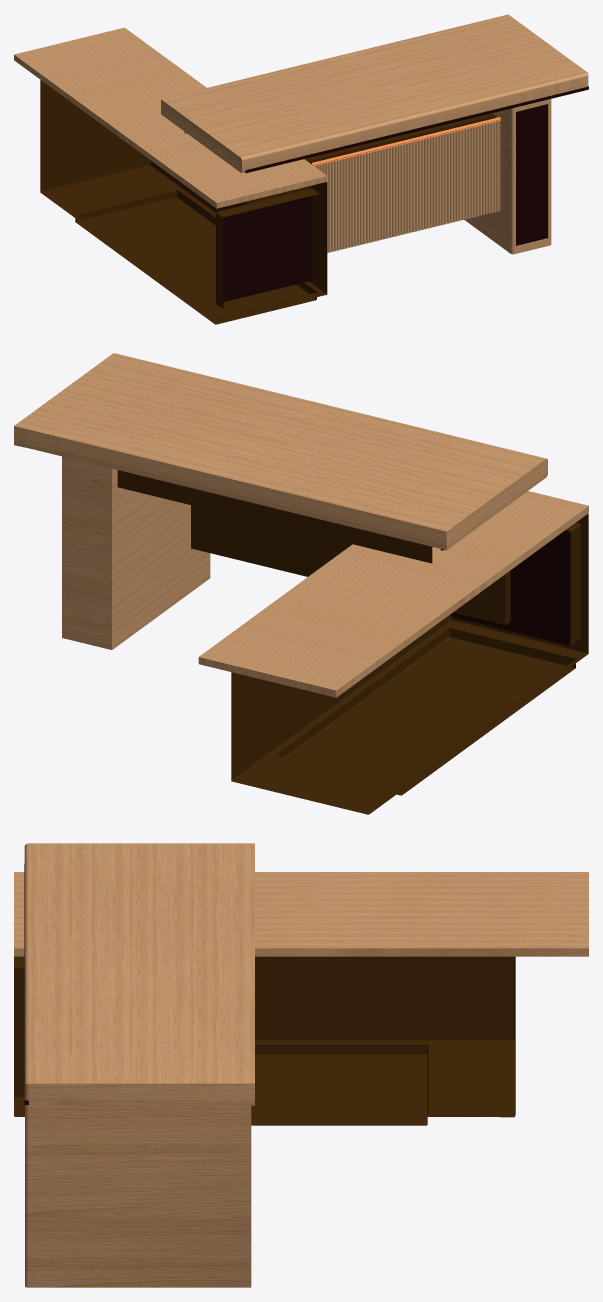
Rendered from Office Table.glb.
3 renders of one model, top to bottom at view 1: azimuth 30°, elevation 25°; view 2: azimuth 150°, elevation 25°; view 3: azimuth 270°, elevation 25°, orthographic. The views are drawn at different scales.
Parts seen in each view (by area): view 1: Cube.005, Cube.003, Cube.004, Plane.003, Cube.002, Cube.006, Cube.007; view 2: Cube.005, Cube.003, Cube.002, Cube.004; view 3: Cube.005, Cube.003, Cube.002, Cube.004.
Boxes of the visible parts, x1,y1,x2,y2 form: Cube.005: (161, 14, 588, 172); Cube.003: (40, 80, 327, 324); Cube.004: (14, 27, 327, 208); Plane.003: (314, 121, 500, 253); Cube.002: (184, 99, 551, 254); Cube.006: (244, 86, 588, 173); Cube.007: (312, 117, 500, 165); Cube.005: (14, 353, 547, 550); Cube.003: (231, 514, 588, 814); Cube.002: (62, 456, 510, 649); Cube.004: (198, 491, 588, 697); Cube.005: (24, 843, 254, 1105); Cube.003: (14, 956, 515, 1125); Cube.002: (25, 1100, 251, 1287); Cube.004: (14, 872, 588, 956).
Size of the model in its own units: 2.07 by 0.8534 by 1.93.
5 materials, 1 textured.
